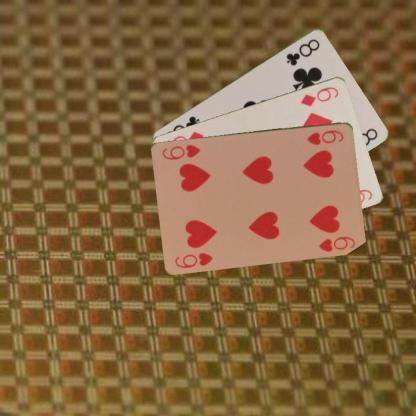6d: (298, 84, 340, 107)
6h: (172, 250, 214, 269), (304, 127, 345, 146)
8c: (283, 36, 321, 67)
